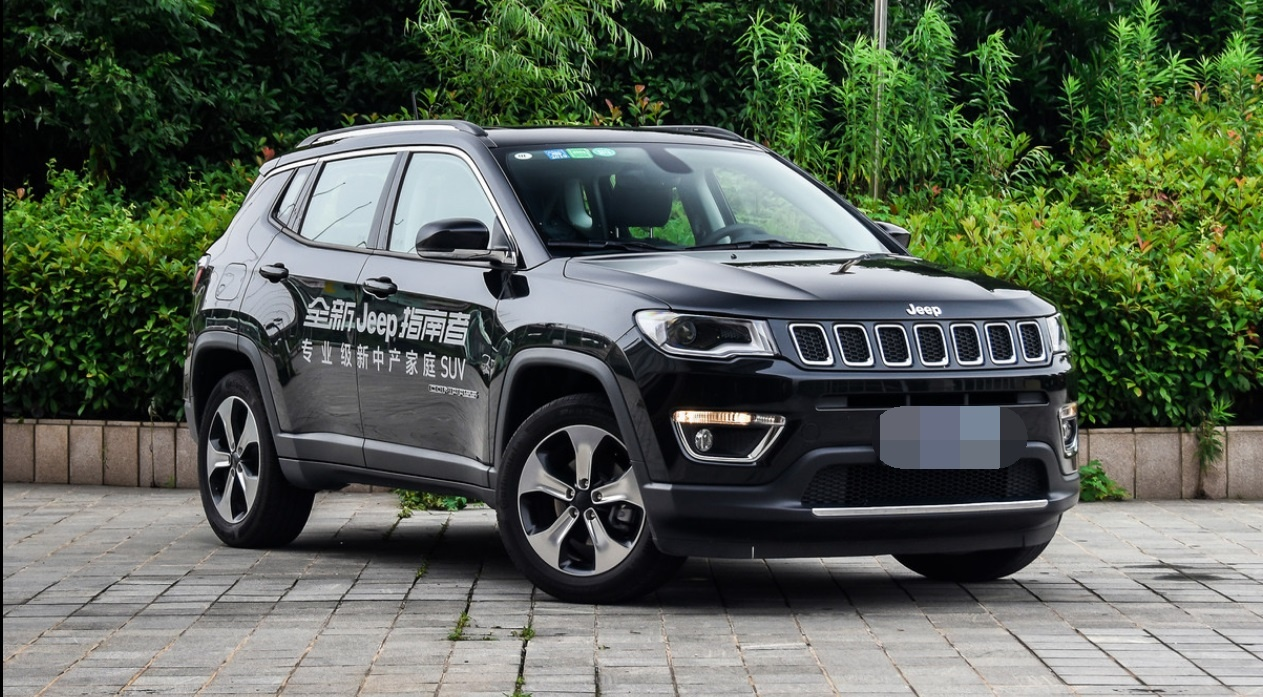SUV: (167, 105, 1094, 626)
